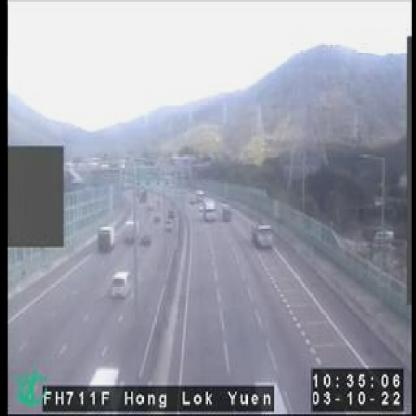Car: (112, 270, 128, 296), (218, 201, 233, 218), (139, 229, 150, 244)
Truck: (250, 222, 273, 248), (97, 227, 112, 253), (203, 199, 216, 220)
